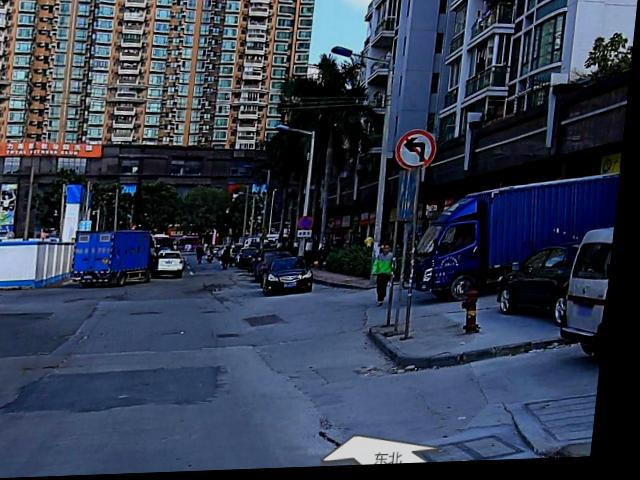not_turn_left: (396, 129, 441, 176)
